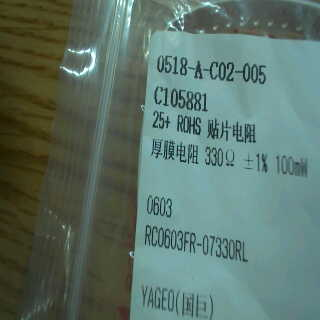330R: (202, 145, 235, 167)
